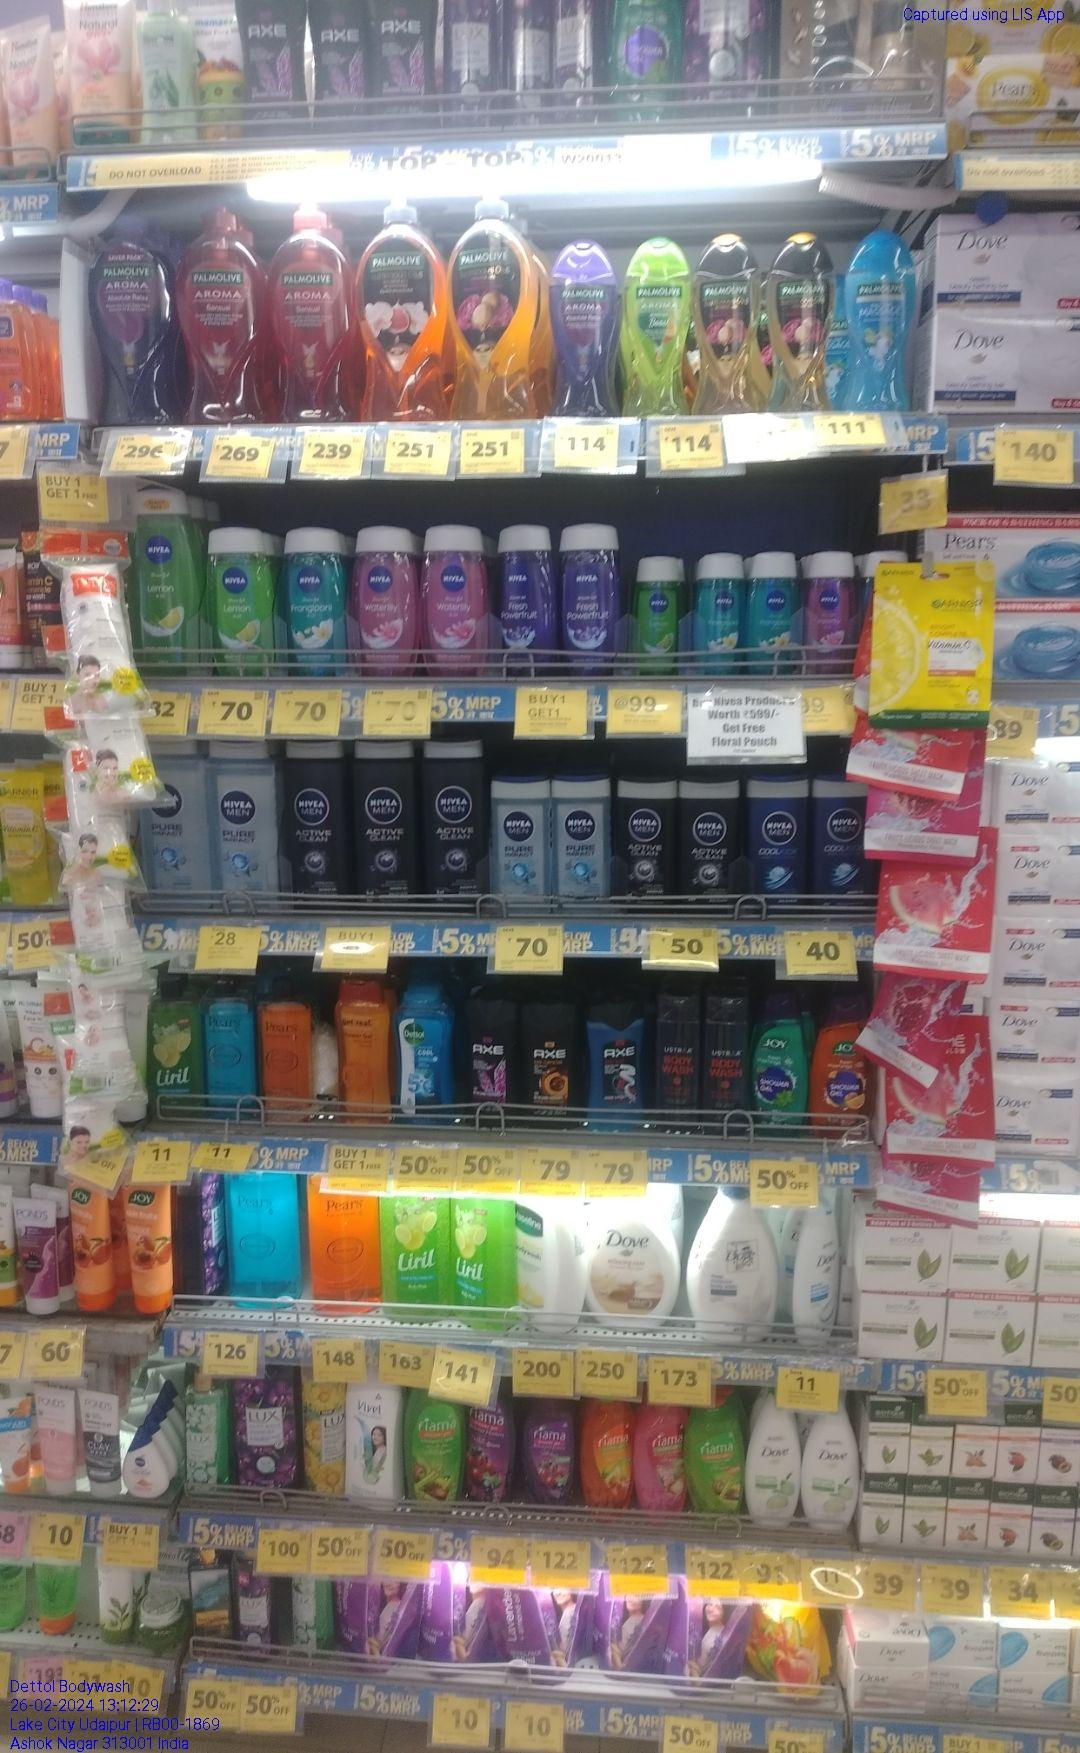Dettol_Bodywash_Cool: (394, 985, 451, 1127)
Dove_Gentle_Exfoliating_Body_Wash_250ML: (802, 1200, 841, 1344)
Dove_Refreshing_Body_Wash_250ML: (803, 1402, 857, 1535), (750, 1395, 800, 1526)
Fiama_Shower_Gel_Lemongrass_and_Jojoba_250ML: (404, 1382, 462, 1516), (687, 1399, 741, 1524)
Fiama_Shower_Gel_Patchouli_and_Macadamia_250ML: (637, 1395, 683, 1526)
Fiama_Shower_Gel_Peach_and_Avocado_250ML: (583, 1394, 632, 1524)
Get_Real_Shower_Gel_Moisturising_Glycerin_300ML: (337, 973, 389, 1124)
Joy_Shower_Gel_Mandarin_and_Lemongrass_250ML: (812, 1000, 870, 1139)
Joy_Shower_Gel_Mint_and_Eucalyptus_250ML: (755, 998, 805, 1137)
Liril_Lime_and_Tea_Tree_Oil_Body_Wash_250ML: (148, 977, 201, 1119)
Lux_Black_Orchid_Scent_and_Juniper_Oil_Body_Wash_245ML: (233, 1563, 274, 1662)
Lux_Body_Wash_Skin_Detox_Freesia_Scent_and_Alove_Vera_245ML: (184, 1371, 227, 1499), (292, 1575, 324, 1659)
Nivea_Shower_Gel_Frangipani_and_Oil_250ML: (282, 525, 348, 682)
Nivea_Shower_Gel_Fresh_Powerfruit_250ML: (494, 523, 558, 679), (558, 522, 617, 676)
Nivea_Shower_Gel_Lemon_and_Oil_250ML: (128, 486, 204, 680), (209, 528, 274, 676)
Nivea_Shower_Gel_Waterlily_and_Oil_250ML: (424, 523, 488, 677), (355, 523, 418, 677)
Palmolive_Aroma_Moments_Feel_The_Massage_Shower_Gel_250ML: (847, 222, 915, 417)
Palmolive_Aroma_Morning_Tonic_Shower_Gel_250ML: (623, 238, 687, 417)
Palmolive_Aroma_Relax_250ML: (552, 234, 616, 414)
Palmolive_Luminous_Oils_Invigorating_Macadamia_Oil_With_Peony_250ML: (766, 224, 833, 413), (693, 234, 763, 413)
Pears_Pure_Glycerin_and_Mint_Extracts_Body_Wash_250ML: (204, 977, 252, 1114)
